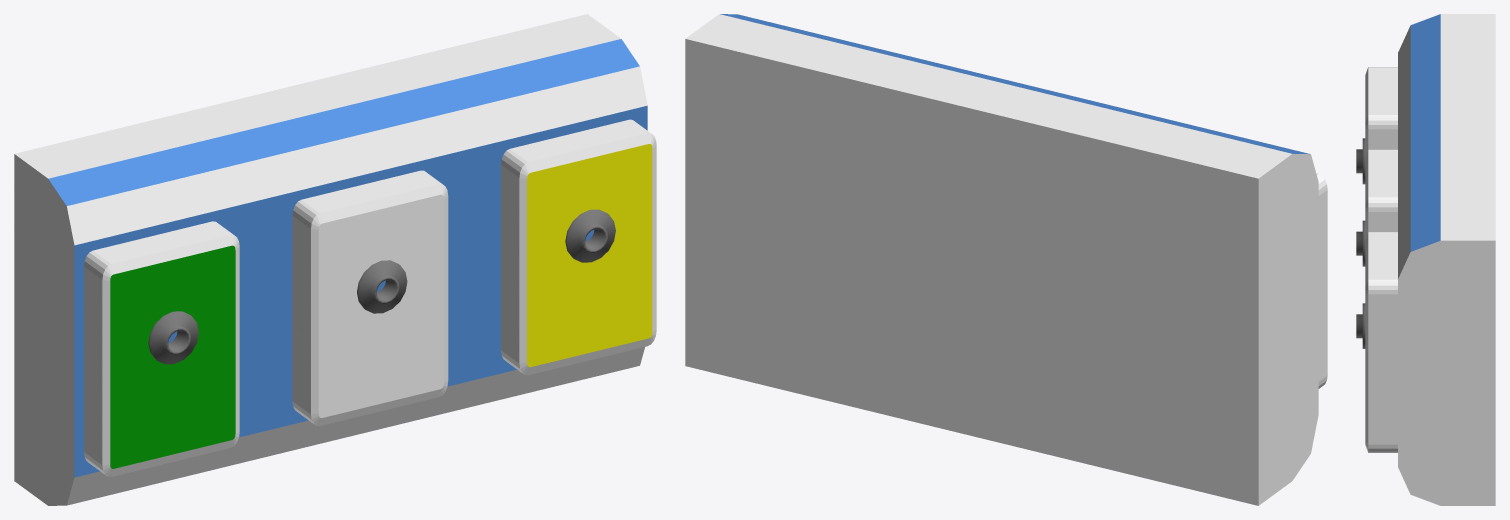
The model's file is TM-5-3salidas.fbx.
3 renders of one model, left to right at view 1: azimuth 30°, elevation 25°; view 2: azimuth 150°, elevation 25°; view 3: azimuth 270°, elevation 25°, orthographic. The views are drawn at different scales.
Visible parts, largest first — view 1: TM-5-3salidas; view 2: TM-5-3salidas; view 3: TM-5-3salidas.
Part boxes in pixels (box(x1,y1,x2,y2)): TM-5-3salidas: box(14, 14, 656, 505); TM-5-3salidas: box(685, 14, 1327, 505); TM-5-3salidas: box(1356, 14, 1495, 505).
Size of the model in its own units: 54.99 by 30 by 14.29.
